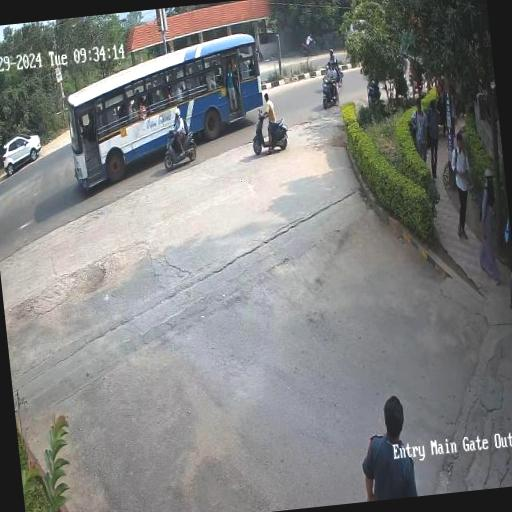helmet: (166, 101, 194, 136)
no helmet: (259, 90, 282, 123)
triple riding: (318, 58, 346, 109)
